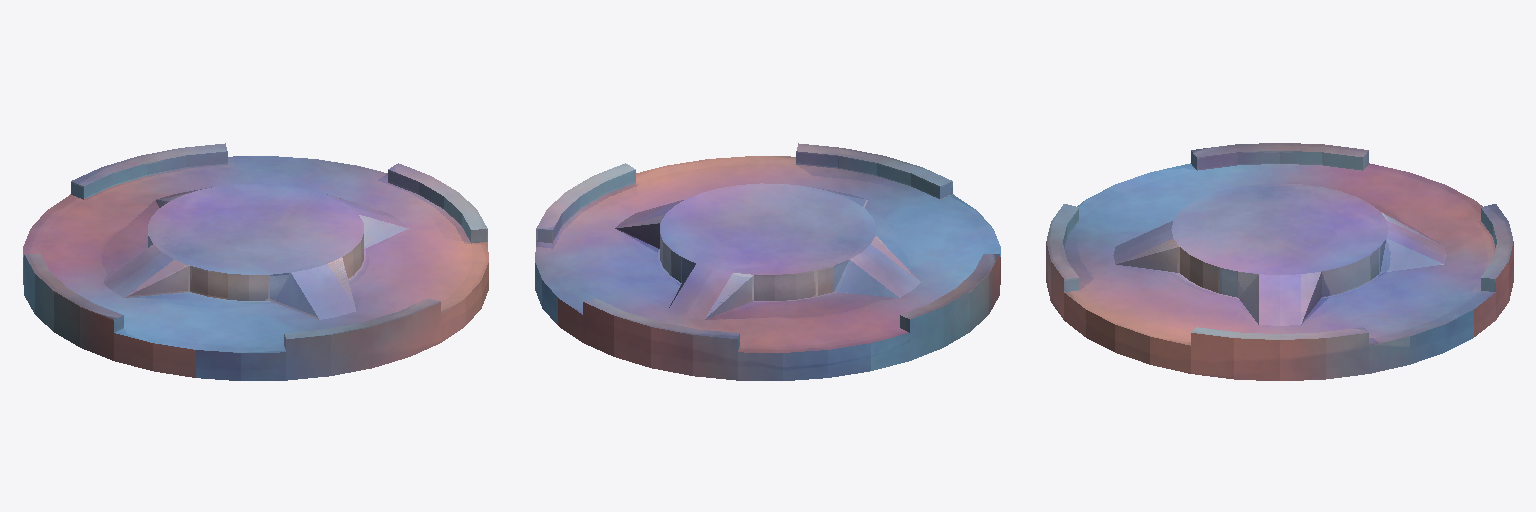
3 views of the same model, side by side, from view 1: azimuth 30°, elevation 25°; view 2: azimuth 150°, elevation 25°; view 3: azimuth 270°, elevation 25° (orthographic).
Visible parts, largest first — view 1: Cylinder; view 2: Cylinder; view 3: Cylinder.
Part boxes in pixels (x1,y1,x2,y2): Cylinder: (23, 143, 488, 380); Cylinder: (535, 143, 1000, 380); Cylinder: (1046, 143, 1513, 380).
Bounding box in the file's own units: 16.14 × 2.04 × 16.14.
Materials: 1 (1 with a texture image).